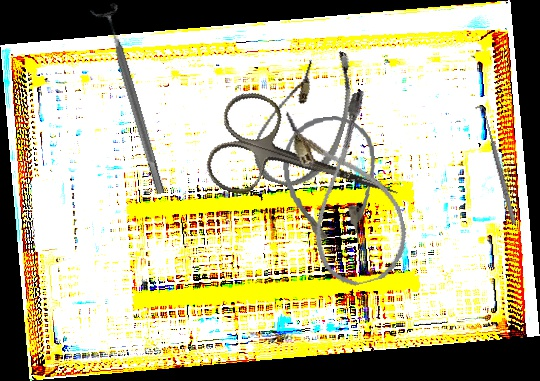Cannula: (281, 89, 417, 293), (245, 35, 367, 198), (278, 112, 384, 252)
Fixation Ring: (89, 1, 175, 199)
Hook Surgical: (474, 104, 519, 226)
Iris Scissors: (200, 84, 414, 244)
